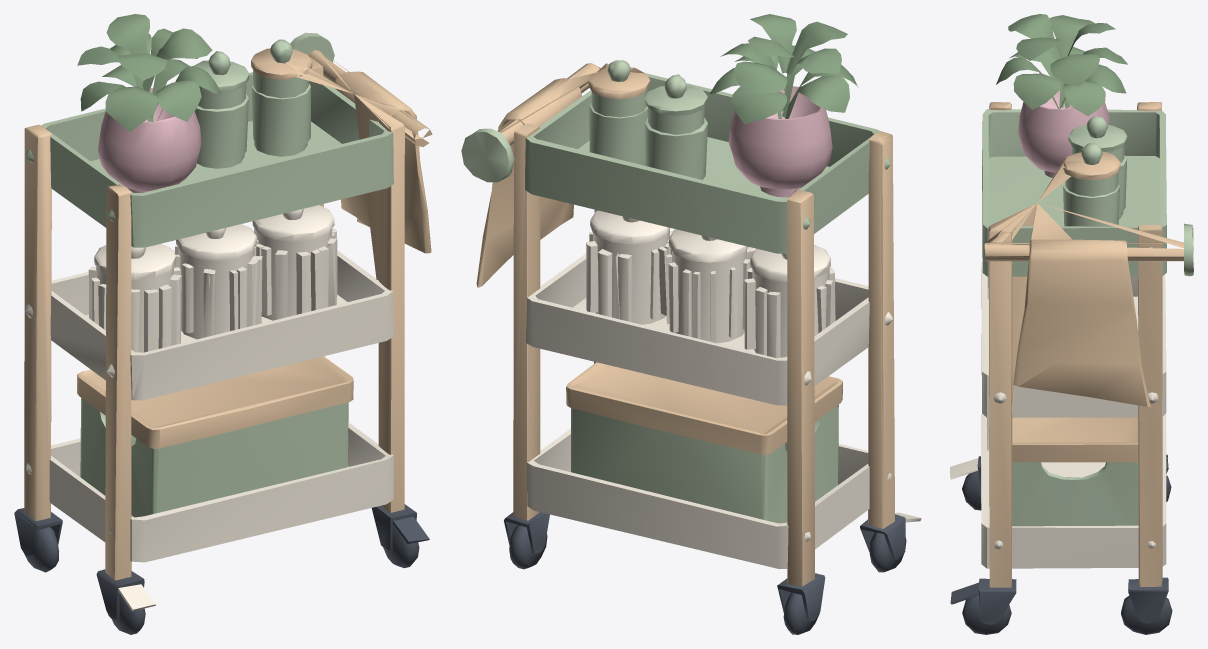
File: kitchen_cart.glb
The picture shows the model from 3 angles, left to right: view 1: azimuth 30°, elevation 25°; view 2: azimuth 150°, elevation 25°; view 3: azimuth 270°, elevation 25°; orthographic projection. The views are drawn at different scales.
Size of the model in its own units: 1.12 by 1.75 by 0.7546.
